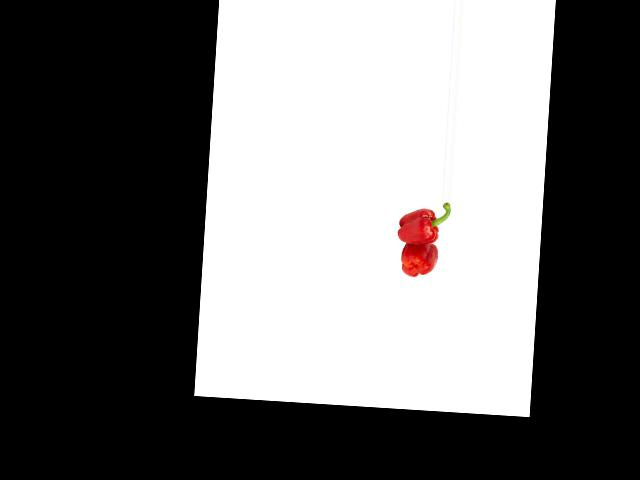bell_pepper: (398, 241, 440, 278)
